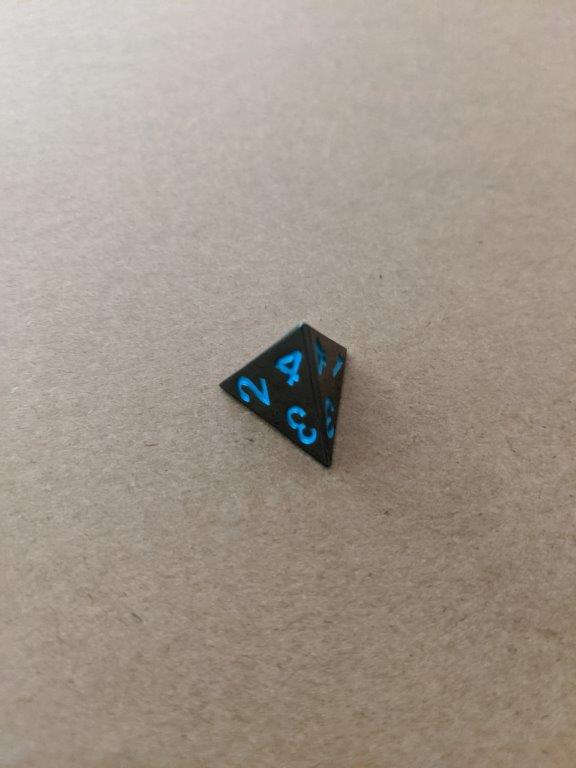d4-4: (214, 318, 350, 472)
